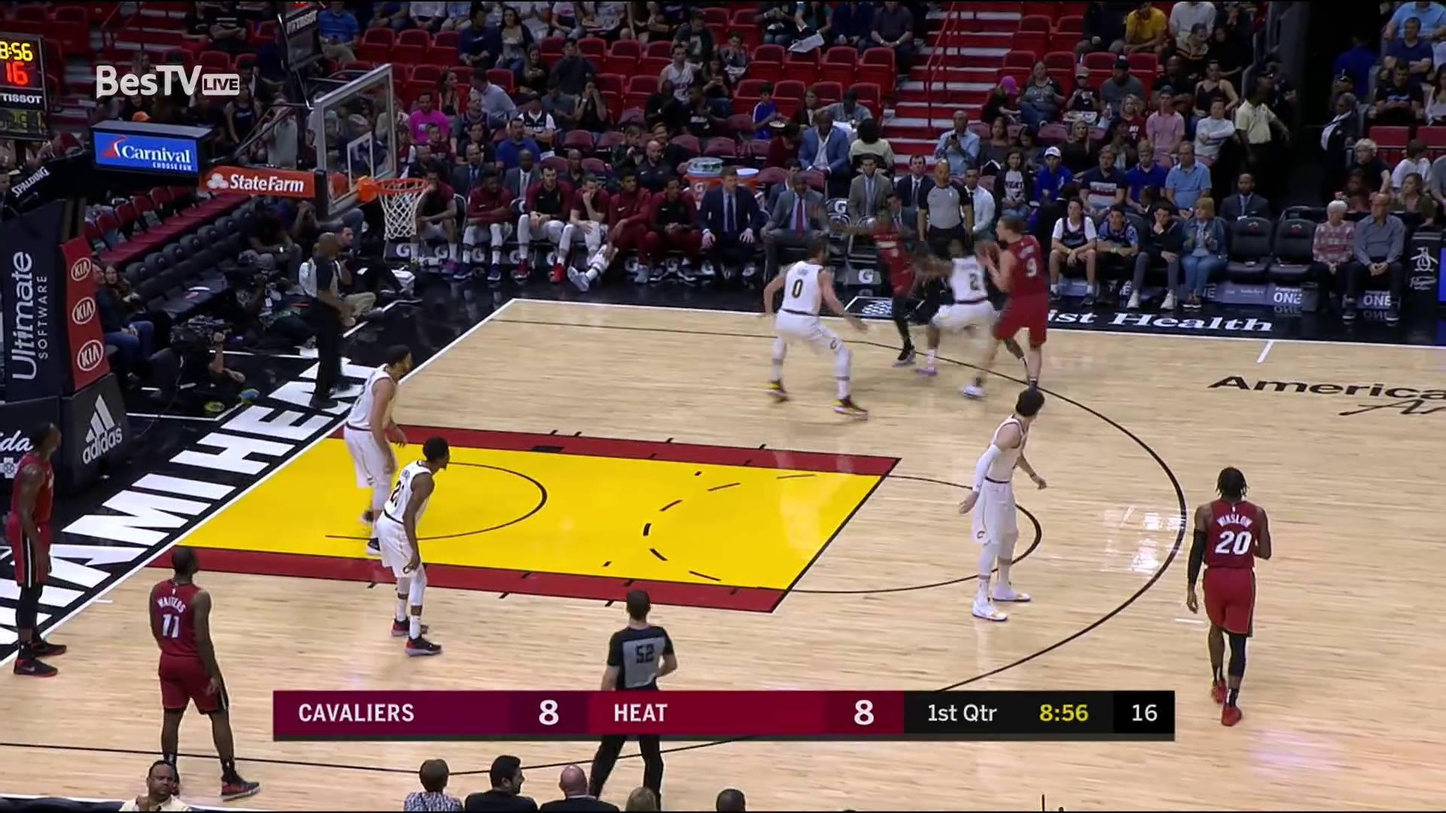basketball: (970, 235, 1002, 267)
